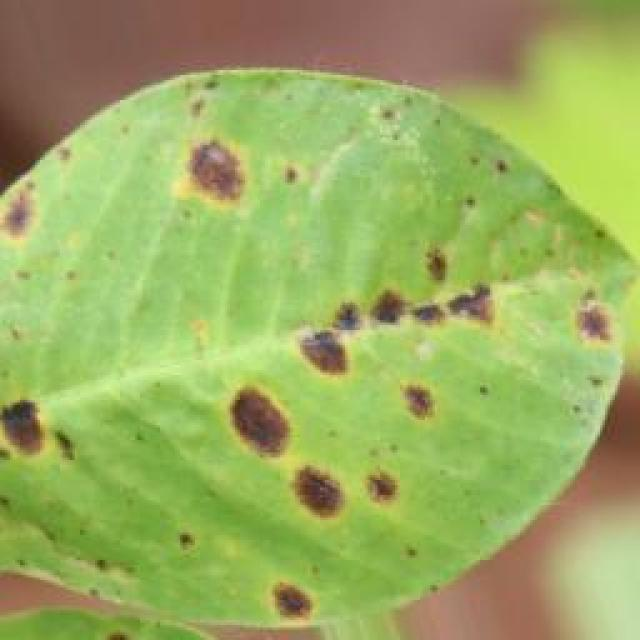Yellowish: (0, 75, 586, 640)
